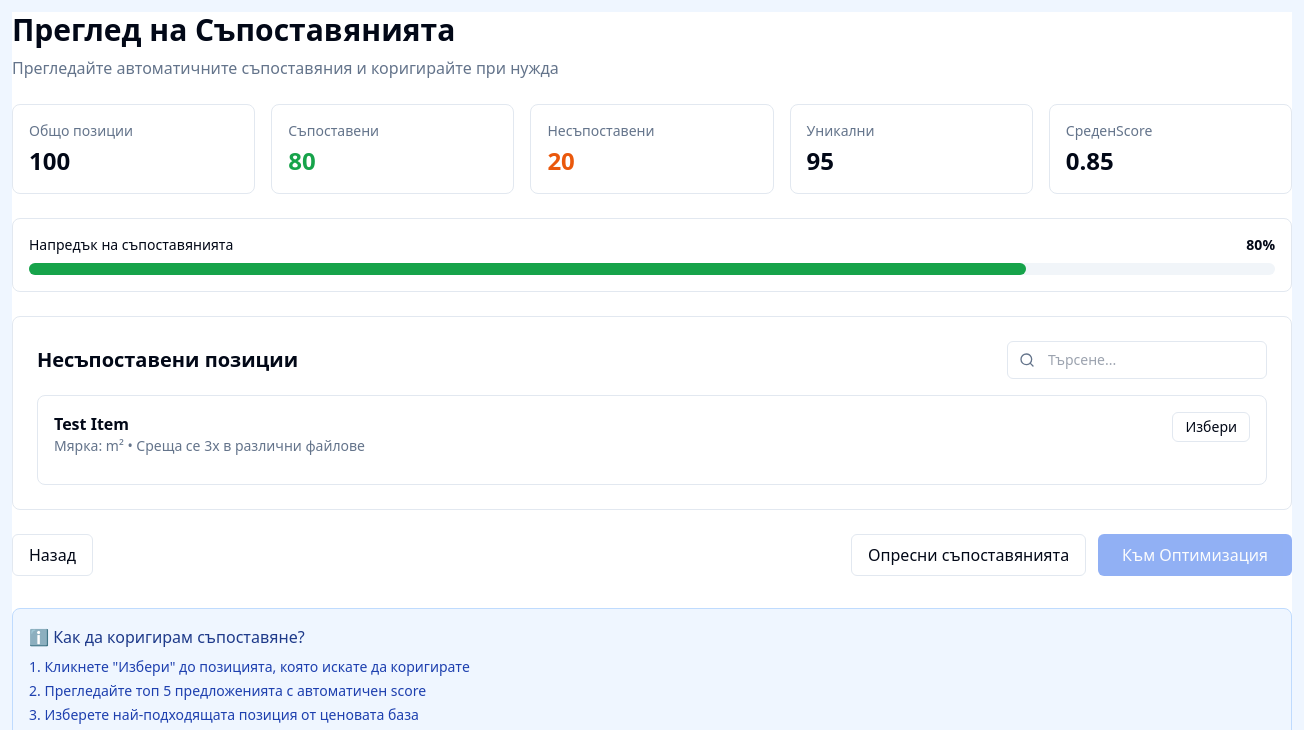
MatchPage › collapses candidate when "Скрий" is clicked
expect the heading "Test Item" is shown: met, box x1=54 y1=413 x2=129 y2=435
// Expand first
Click the button "Избери" at (1211, 427), box x1=1172 y1=412 x2=1250 y2=442
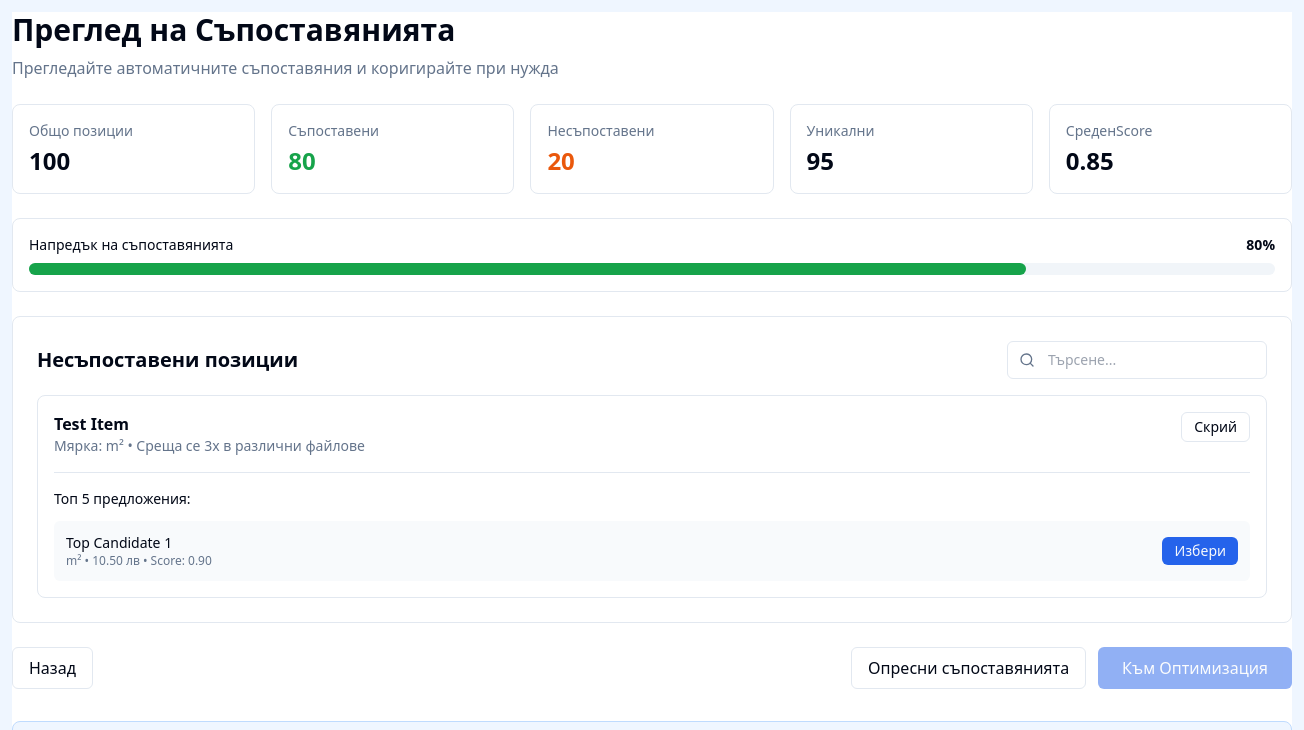
expect the text "Top Candidate 1" is shown: met, box x1=66 y1=533 x2=172 y2=552
// Now collapse
Click the button "Скрий" at (1216, 427), box x1=1181 y1=412 x2=1250 y2=442
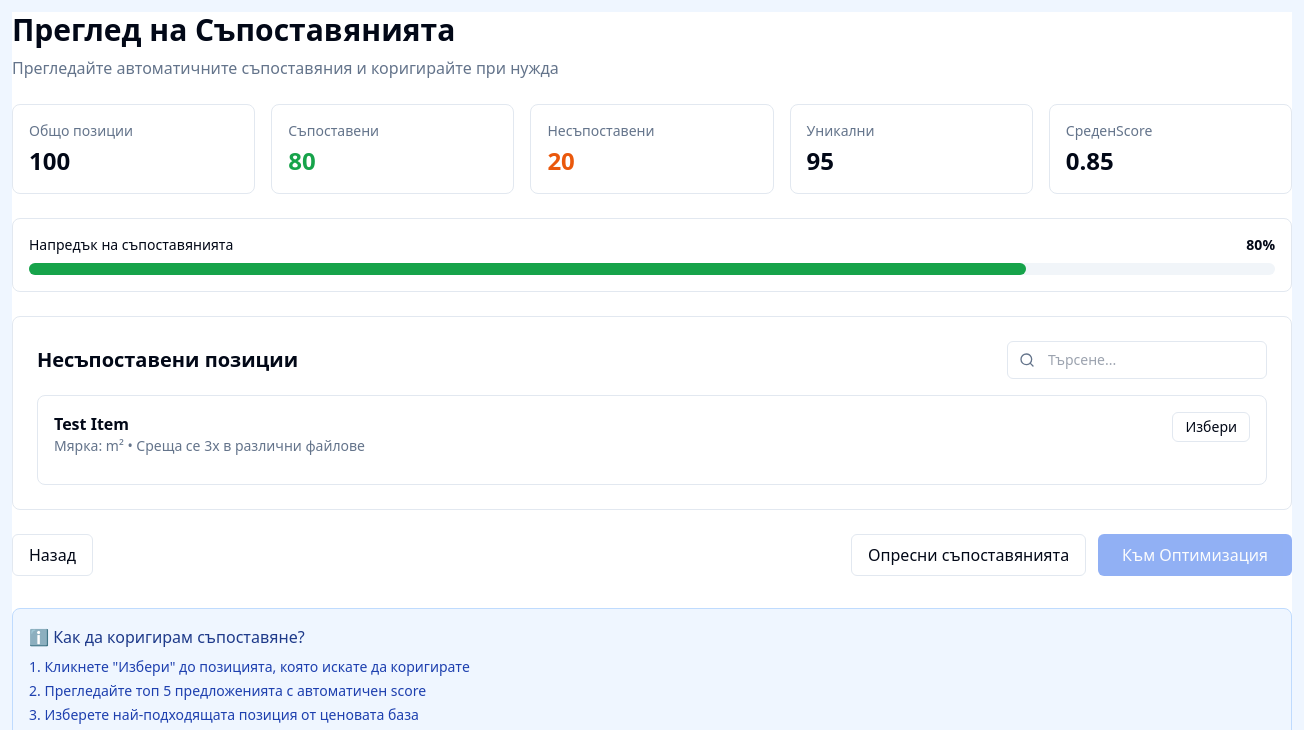
expect the text "Top Candidate 1" is gone: met
